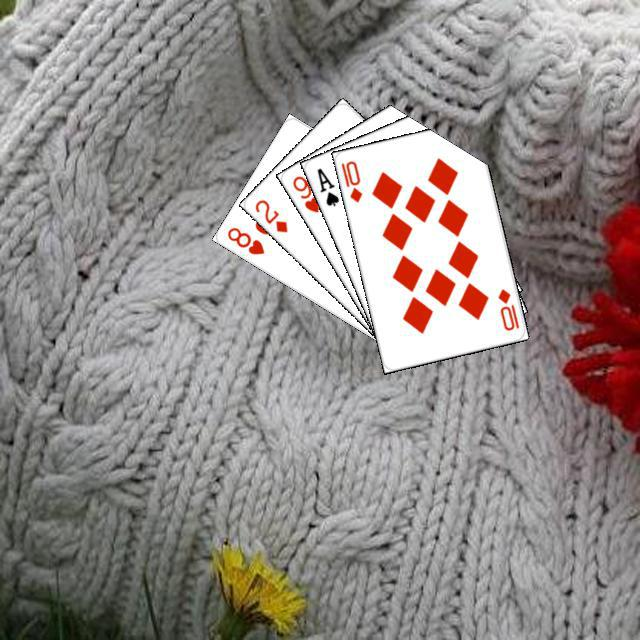10d: (493, 284, 521, 333), (336, 156, 364, 204)
2d: (250, 194, 289, 234)
8h: (222, 222, 266, 257)
9h: (287, 171, 321, 215)
As: (312, 163, 341, 208)
